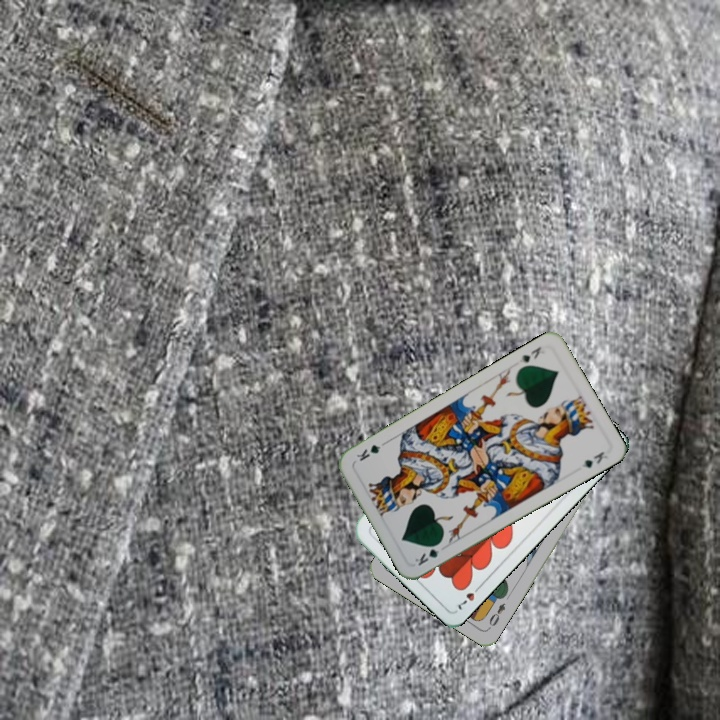EO: (484, 599, 508, 632)
GK: (411, 538, 445, 568), (515, 342, 544, 365)
H7: (452, 580, 484, 613)
